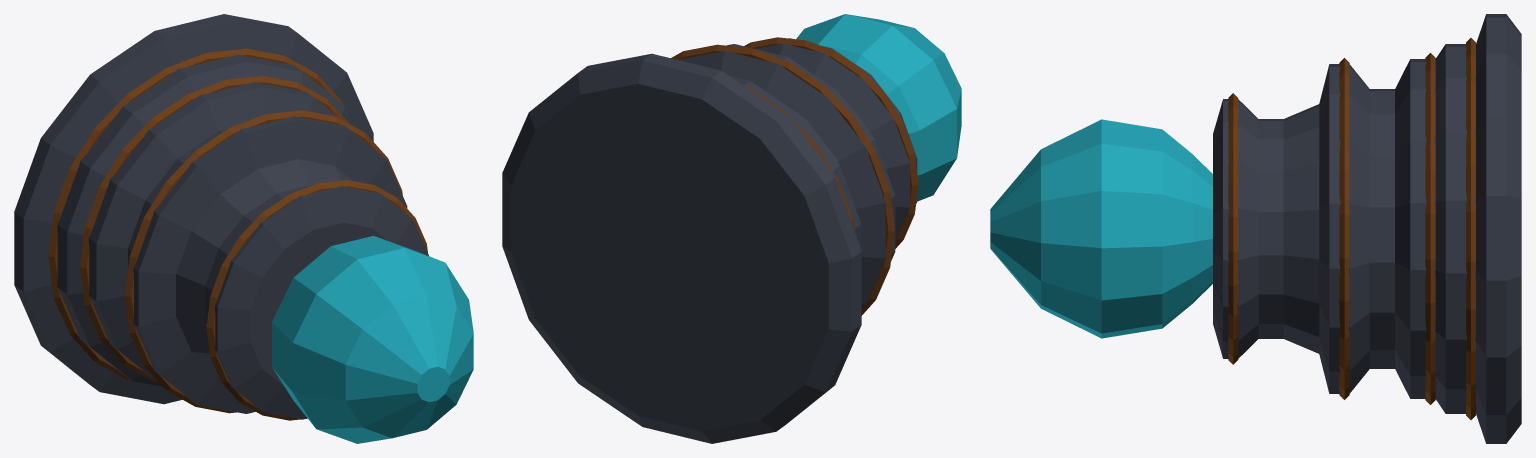
Rendered from SM_MF_LunarReliquary.obj.
3 views of the same model, side by side, from view 1: azimuth 30°, elevation 25°; view 2: azimuth 150°, elevation 25°; view 3: azimuth 270°, elevation 25° (orthographic). The views are drawn at different scales.
Parts seen in each view (by area): view 1: SM_MF_LunarReliquary; view 2: SM_MF_LunarReliquary; view 3: SM_MF_LunarReliquary.
Part boxes in pixels (x1,y1,x2,y2): SM_MF_LunarReliquary: (14, 14, 473, 443); SM_MF_LunarReliquary: (502, 14, 961, 443); SM_MF_LunarReliquary: (990, 14, 1521, 443).
Bounding box in the file's own units: 84.35 × 84.35 × 105.
